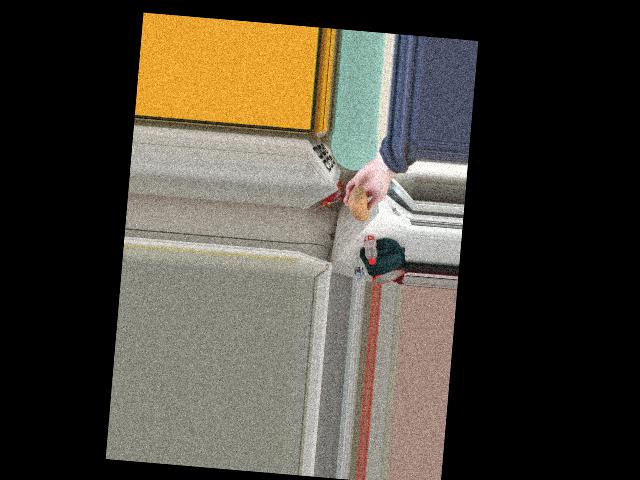sweet_potato: (348, 181, 369, 222)
